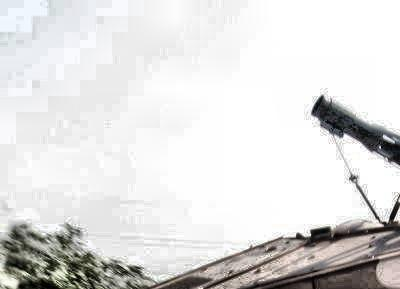tanks: (147, 223, 400, 289), (314, 98, 400, 167)
